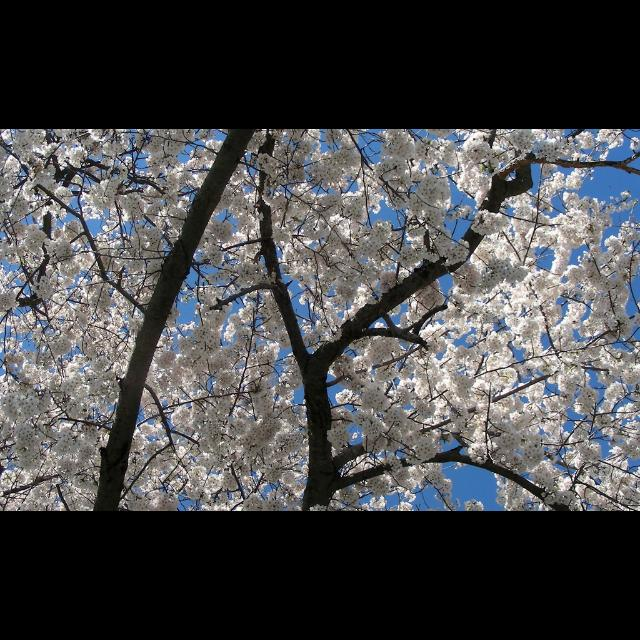Flower: (1, 129, 640, 511), (452, 370, 468, 398)
